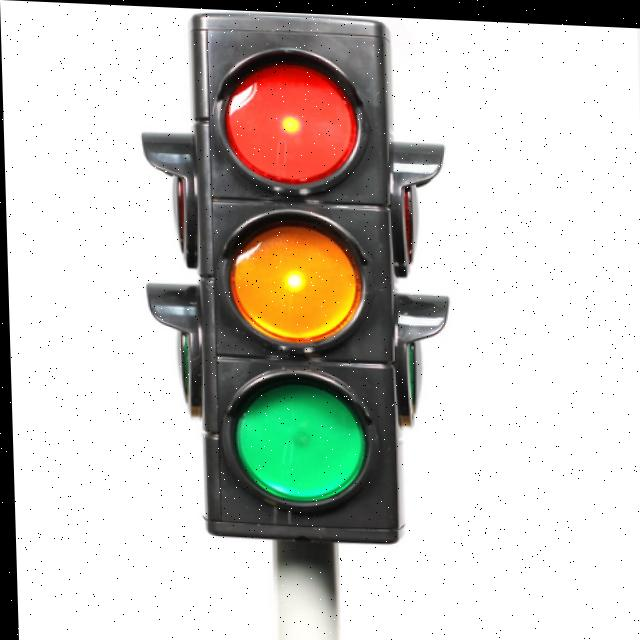light_traffic: (113, 5, 510, 615)
